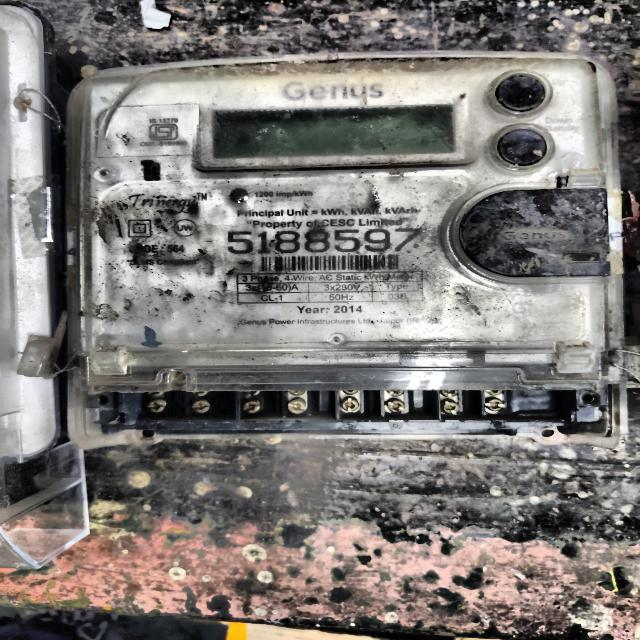Digital: (68, 56, 626, 438)
Reading: (214, 110, 456, 157)
Serial No.: (223, 227, 424, 254)
